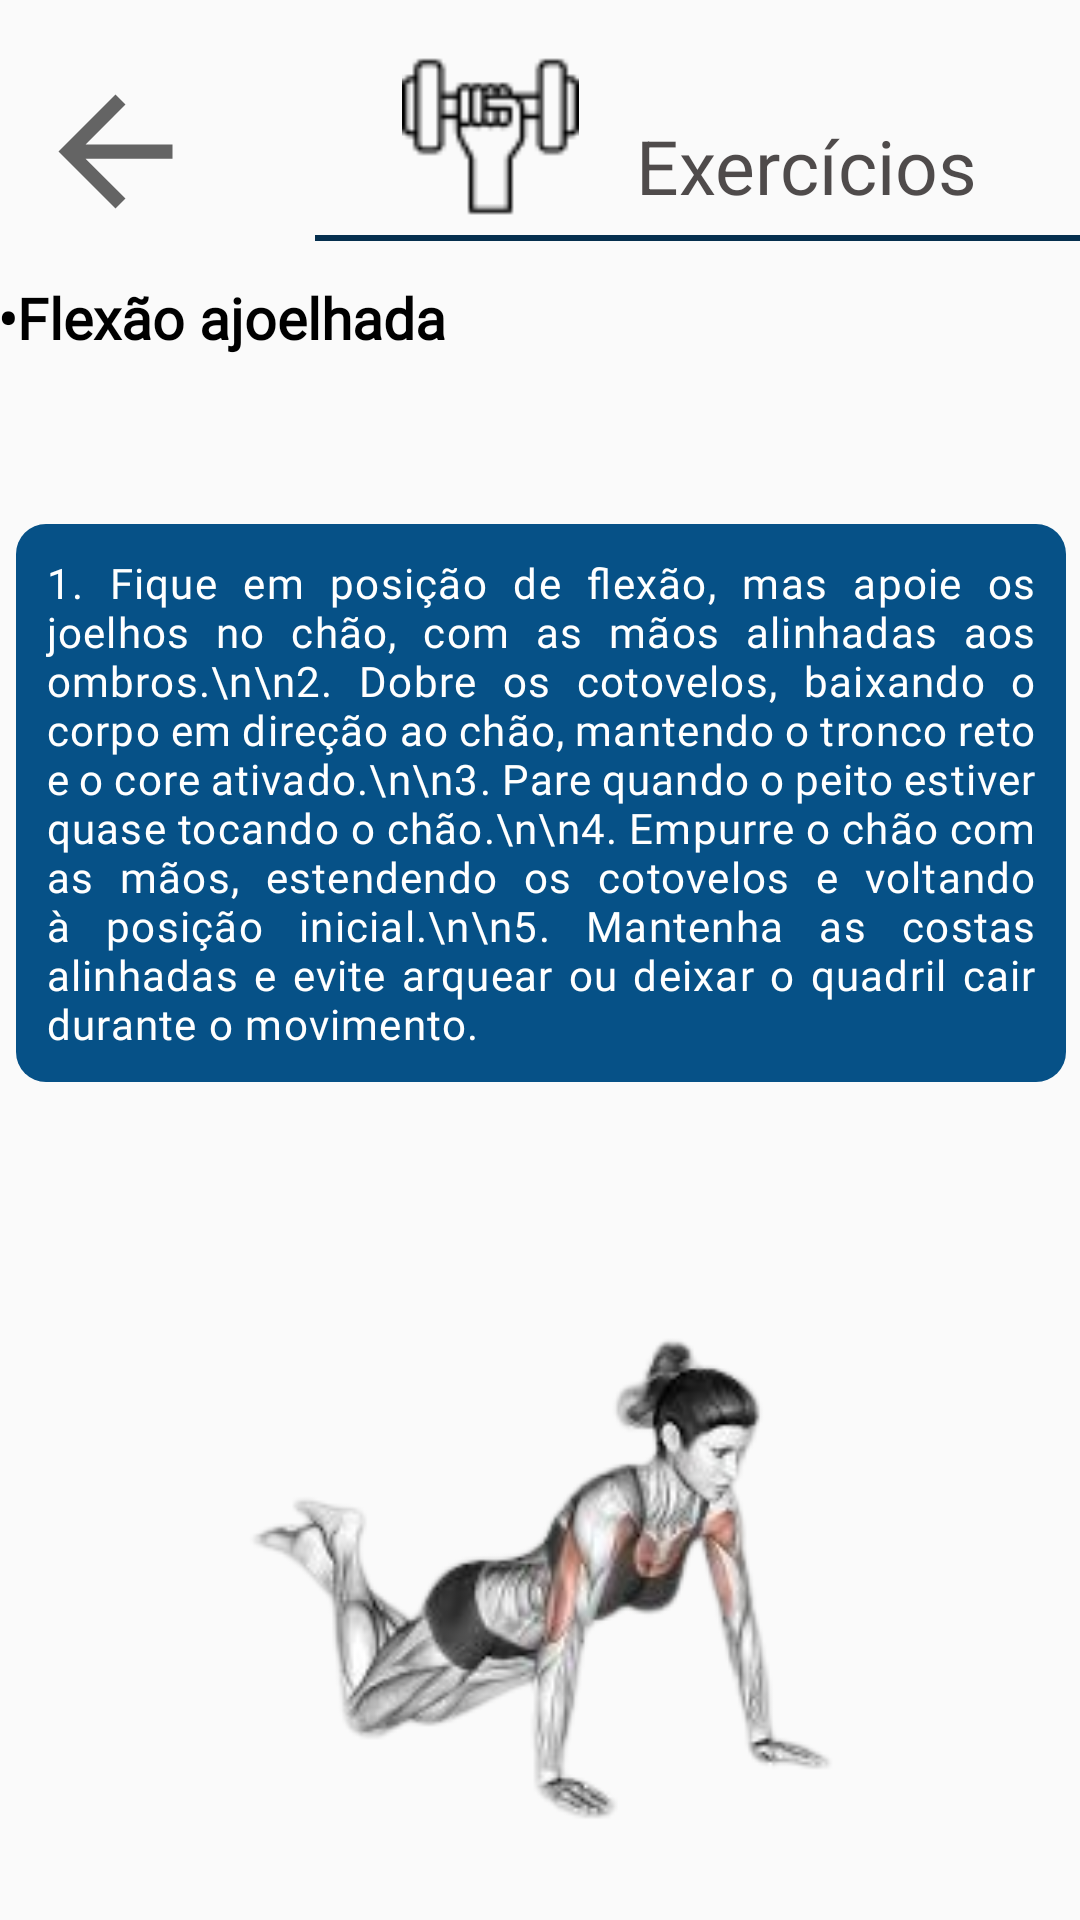

Locate icon controls on the screen. Image size 1080w x 1920h, boxes as (x1, y1, x2, y2).
exercicios: (402, 58, 579, 215)
